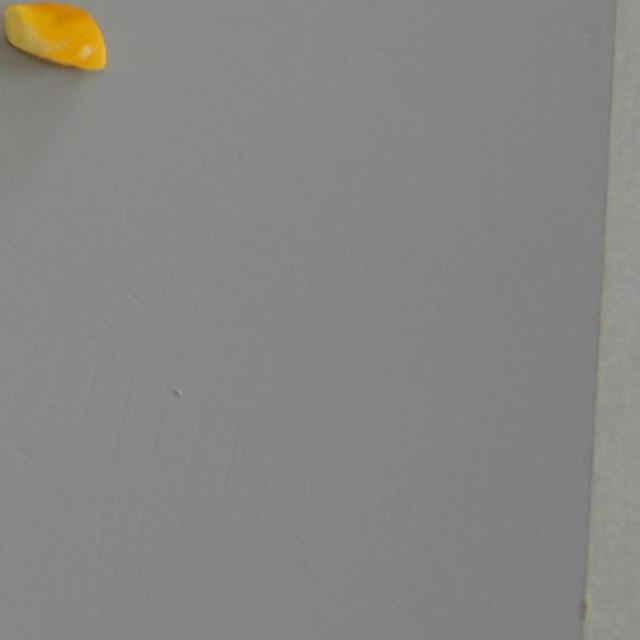dañado: (0, 0, 112, 75)
